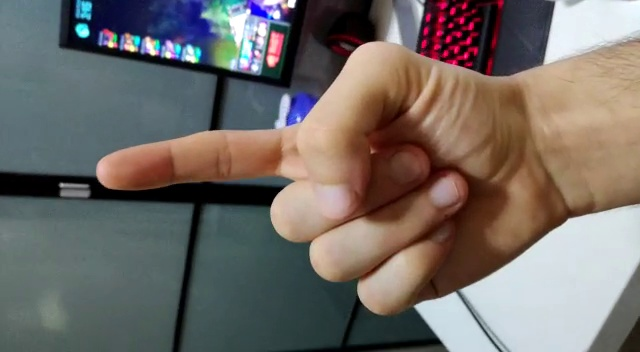One: (65, 108, 344, 200)
